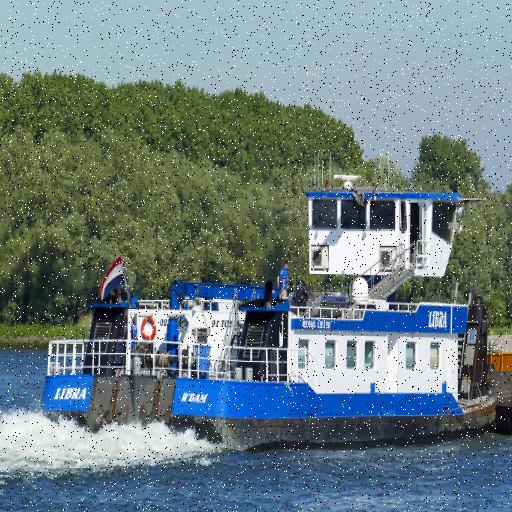tugboat: (40, 170, 500, 469)
